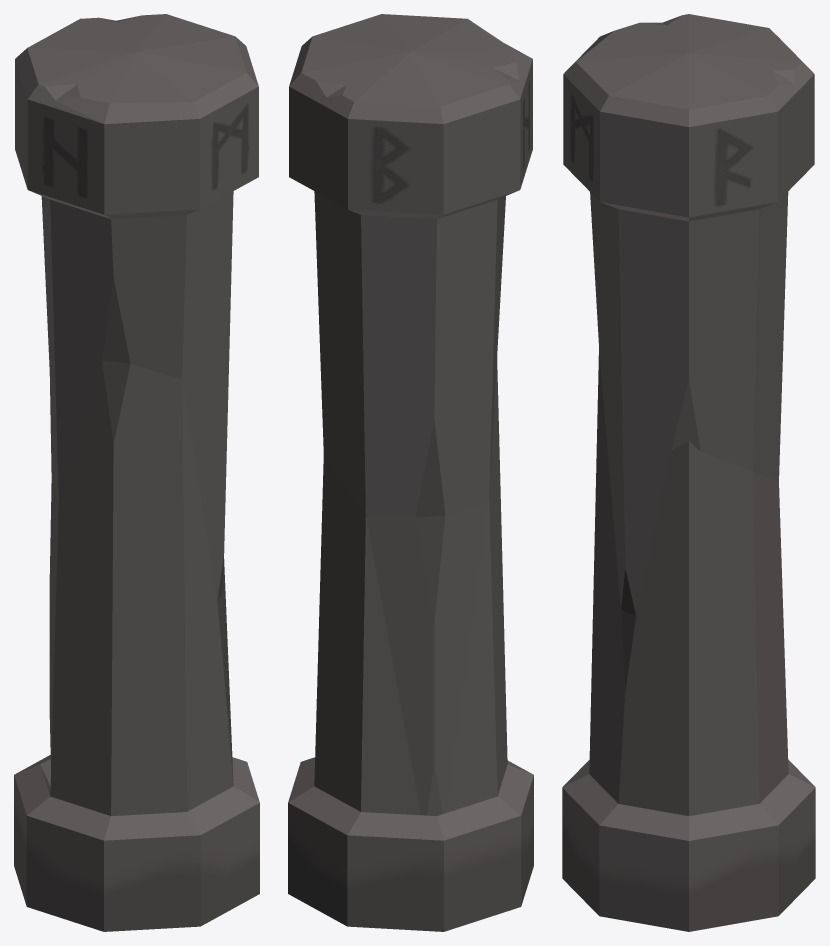
The model's file is SM_Bld_Stone_Pillar_01.fbx.
The picture shows the model from 3 angles, left to right: view 1: azimuth 30°, elevation 25°; view 2: azimuth 150°, elevation 25°; view 3: azimuth 270°, elevation 25°; orthographic projection.
Visible parts, largest first — view 1: SM_Bld_Stone_Pillar_01; view 2: SM_Bld_Stone_Pillar_01; view 3: SM_Bld_Stone_Pillar_01.
Boxes of the visible parts, <box> form: SM_Bld_Stone_Pillar_01: <box>14,14,259,931</box>; SM_Bld_Stone_Pillar_01: <box>288,14,533,931</box>; SM_Bld_Stone_Pillar_01: <box>562,14,815,931</box>.
Bounding box in the file's own units: 131 × 469 × 131.
